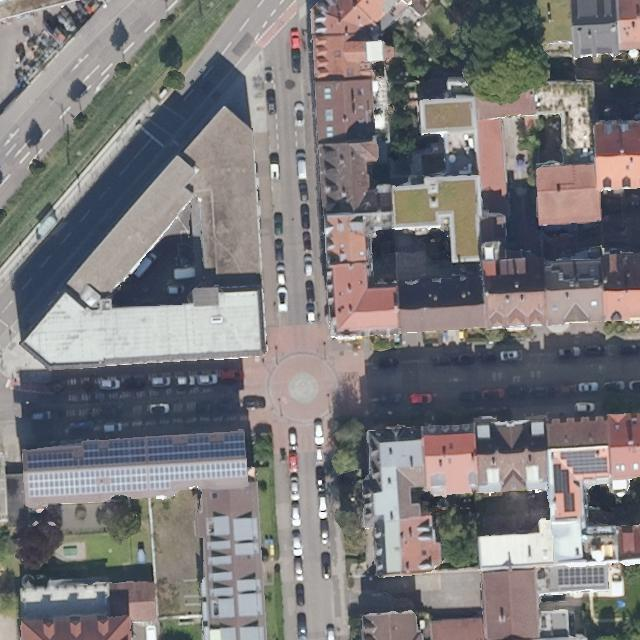PV: (27, 459, 250, 500), (25, 432, 247, 471), (559, 449, 609, 476), (552, 464, 576, 514), (557, 565, 607, 589)
